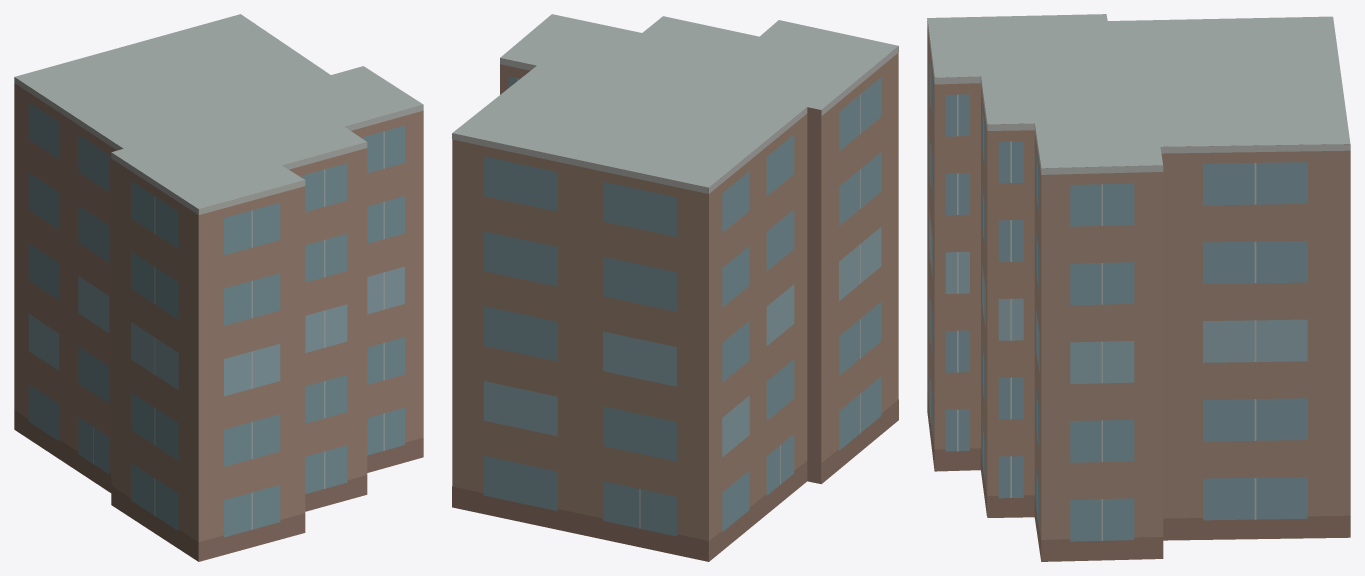
File: survey-upis-32875393.glb
3 views of the same model, side by side, from view 1: azimuth 30°, elevation 25°; view 2: azimuth 150°, elevation 25°; view 3: azimuth 270°, elevation 25° (orthographic). The views are drawn at different scales.
Visible parts, largest first — view 1: survey-upis-32875393.tmp; view 2: survey-upis-32875393.tmp; view 3: survey-upis-32875393.tmp.
Part boxes in pixels (box(x1,y1,x2,y2)): survey-upis-32875393.tmp: box(14, 14, 423, 561); survey-upis-32875393.tmp: box(452, 14, 898, 561); survey-upis-32875393.tmp: box(927, 14, 1350, 561).
Size of the model in its own units: 12.02 by 14.3 by 13.94.
